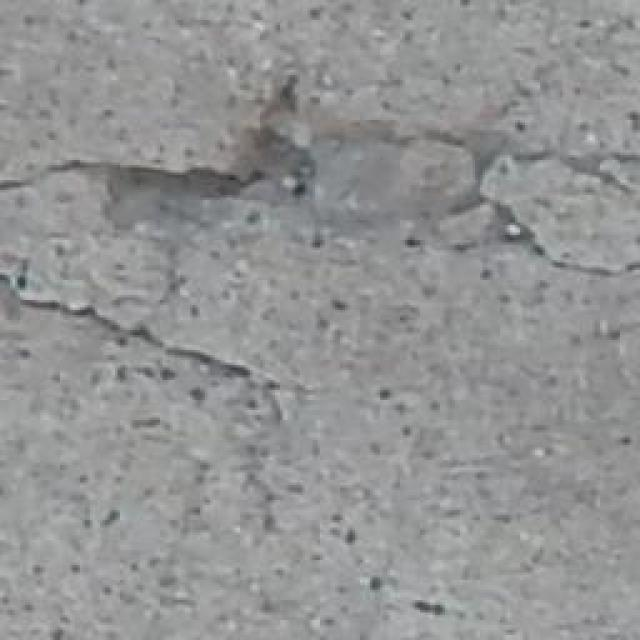concrete-crack: (7, 79, 639, 293), (0, 283, 292, 389)
